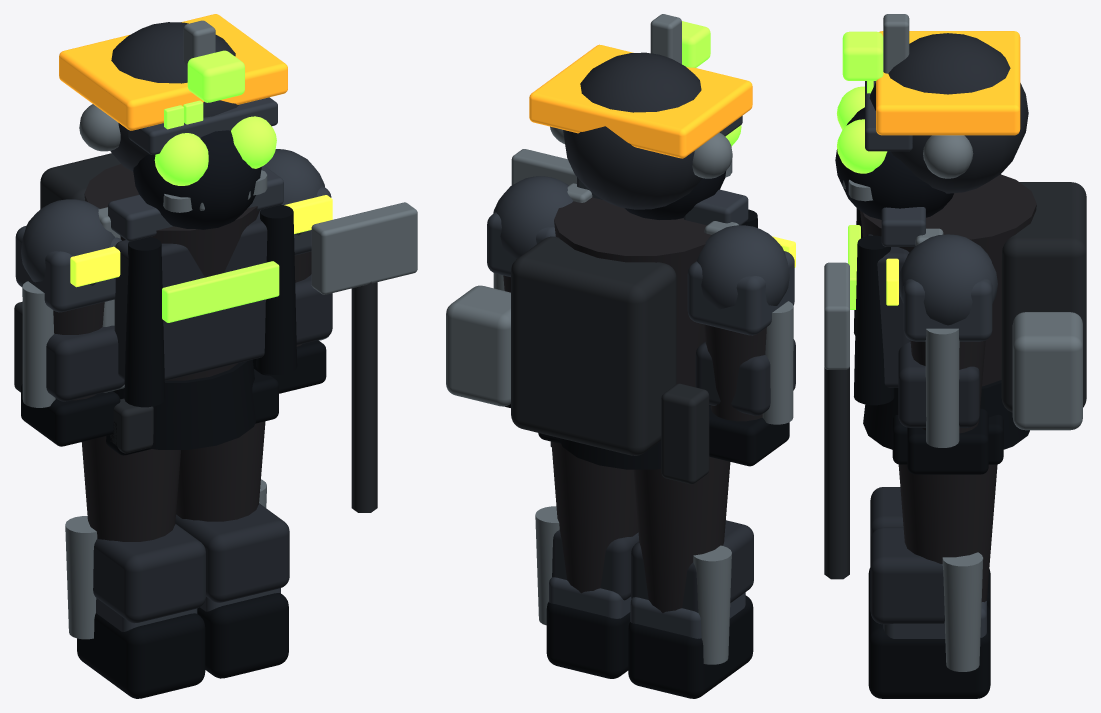
File: engineer_l02.glb
The picture shows the model from 3 angles, left to right: view 1: azimuth 30°, elevation 25°; view 2: azimuth 150°, elevation 25°; view 3: azimuth 270°, elevation 25°; orthographic projection. The views are drawn at different scales.
Parts seen in each view (by area): view 1: shaped_knee_guard (×2), trouser (×2), boot (×2), vest_tether (×2), segmented_vest, safety_helmet_band, axe_head, waist_flex, forearm_plate (×2), enclosed_mask, shoulder_joint (×2), axe_handle (+21 smaller); view 2: field_pack, trouser (×2), rounded_helmet, boot (×2), safety_helmet_band, shoulder_joint (×2), body, repair_canister, shin_frame (×2), shaped_knee_guard (×2), shoulder_plate (×2), tool_roll (+12 smaller); view 3: field_pack, rounded_helmet, safety_helmet_band, repair_canister, trouser, shaped_knee_guard (×2), body, boot, shoulder_joint, axe_handle, vest_tether, shin_frame (+20 smaller).
Boxes of the visible parts, x1=… form: shaped_knee_guard (×2): x1=93, y1=503, x2=289, y2=623; trouser (×2): x1=81, y1=421, x2=265, y2=541; boot (×2): x1=77, y1=593, x2=288, y2=698; vest_tether (×2): x1=124, y1=205, x2=297, y2=407; segmented_vest: x1=114, y1=210, x2=267, y2=380; safety_helmet_band: x1=59, y1=14, x2=287, y2=130; axe_head: x1=311, y1=202, x2=417, y2=294; waist_flex: x1=113, y1=359, x2=255, y2=449; forearm_plate (×2): x1=46, y1=274, x2=332, y2=401; enclosed_mask: x1=133, y1=130, x2=261, y2=229; shoulder_joint (×2): x1=21, y1=149, x2=324, y2=285; axe_handle: x1=351, y1=281, x2=377, y2=512; field_pack: x1=511, y1=236, x2=676, y2=455; trouser (×2): x1=551, y1=441, x2=730, y2=612; rounded_helmet: x1=563, y1=52, x2=702, y2=209; boot (×2): x1=546, y1=595, x2=753, y2=698; safety_helmet_band: x1=529, y1=44, x2=752, y2=158; shoulder_joint (×2): x1=493, y1=176, x2=789, y2=309; body: x1=554, y1=197, x2=711, y2=387; repair_canister: x1=446, y1=285, x2=510, y2=406; shin_frame (×2): x1=535, y1=506, x2=731, y2=664; shaped_knee_guard (×2): x1=552, y1=520, x2=753, y2=612; shoulder_plate (×2): x1=487, y1=212, x2=794, y2=335; tool_roll: x1=661, y1=383, x2=709, y2=484; field_pack: x1=1001, y1=182, x2=1086, y2=412; rounded_helmet: x1=869, y1=33, x2=1028, y2=193; safety_helmet_band: x1=876, y1=31, x2=1020, y2=135; repair_canister: x1=1012, y1=312, x2=1082, y2=430; trouser: x1=898, y1=464, x2=997, y2=602; shaped_knee_guard (×2): x1=870, y1=487, x2=944, y2=624; body: x1=860, y1=174, x2=1036, y2=386; boot: x1=868, y1=605, x2=990, y2=698; shoulder_joint: x1=899, y1=234, x2=997, y2=325; axe_handle: x1=824, y1=367, x2=849, y2=579; vest_tether: x1=854, y1=235, x2=894, y2=405; shin_frame: x1=942, y1=552, x2=983, y2=671.
Size of the model in its own units: 1.04 by 1.93 by 0.71.
